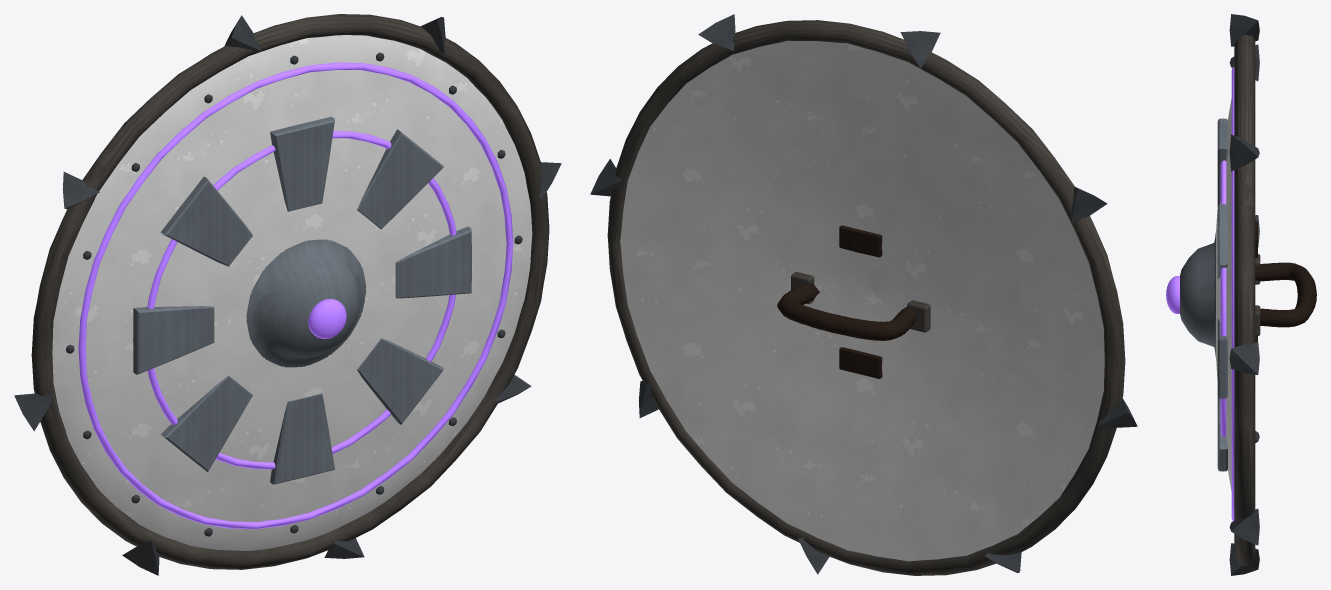
Rendered from void-disc.lod1.glb.
The picture shows the model from 3 angles, left to right: view 1: azimuth 30°, elevation 25°; view 2: azimuth 150°, elevation 25°; view 3: azimuth 270°, elevation 25°; orthographic projection. The views are drawn at different scales.
Visible parts, largest first — view 1: ceramic / ceramic composite panel, alloy / machined anodized alloy, iron / hammer-scaled wrought iron, energy / emissive field channel, darksteel / oil-blackened fittings; view 2: ceramic / ceramic composite panel, iron / hammer-scaled wrought iron, leather / oiled leather wrap, darksteel / oil-blackened fittings; view 3: iron / hammer-scaled wrought iron, alloy / machined anodized alloy, darksteel / oil-blackened fittings, energy / emissive field channel, leather / oiled leather wrap, ceramic / ceramic composite panel.
Boxes of the visible parts, bbox=[...] form: ceramic / ceramic composite panel: bbox=[52, 35, 532, 550]; alloy / machined anodized alloy: bbox=[133, 116, 471, 484]; iron / hammer-scaled wrought iron: bbox=[31, 14, 549, 569]; energy / emissive field channel: bbox=[78, 62, 513, 529]; darksteel / oil-blackened fittings: bbox=[14, 15, 561, 575]; ceramic / ceramic composite panel: bbox=[620, 40, 1104, 561]; iron / hammer-scaled wrought iron: bbox=[607, 20, 1125, 575]; leather / oiled leather wrap: bbox=[777, 225, 916, 378]; darksteel / oil-blackened fittings: bbox=[590, 14, 1137, 574]; iron / hammer-scaled wrought iron: bbox=[1234, 34, 1260, 566]; alloy / machined anodized alloy: bbox=[1180, 118, 1227, 471]; darksteel / oil-blackened fittings: bbox=[1229, 14, 1259, 575]; energy / emissive field channel: bbox=[1166, 67, 1234, 521]; leather / oiled leather wrap: bbox=[1255, 221, 1316, 342]; ceramic / ceramic composite panel: bbox=[1216, 98, 1231, 491].
Bounding box in the file's own units: 0.6483 × 0.6483 × 0.1729.
Materials: 7 (5 with a texture image).
